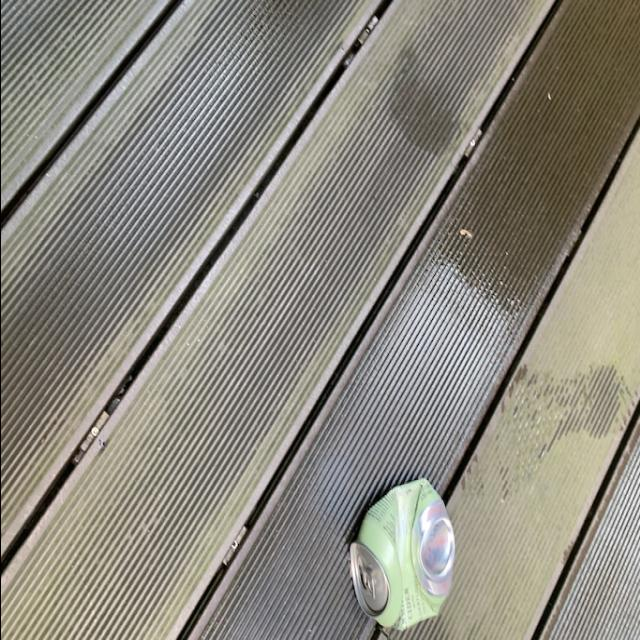Aluminum Can: (343, 471, 461, 629)
